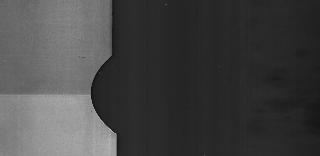welding line: (0, 88, 100, 106)
